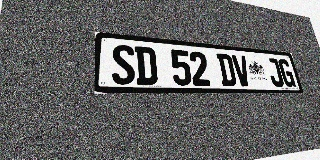2: (189, 51, 211, 86)
5: (170, 49, 193, 86)
D: (135, 46, 158, 85), (216, 53, 237, 86)
G: (277, 59, 296, 87)
J: (266, 58, 285, 87)
S: (112, 44, 136, 85)
V: (231, 55, 252, 86)
